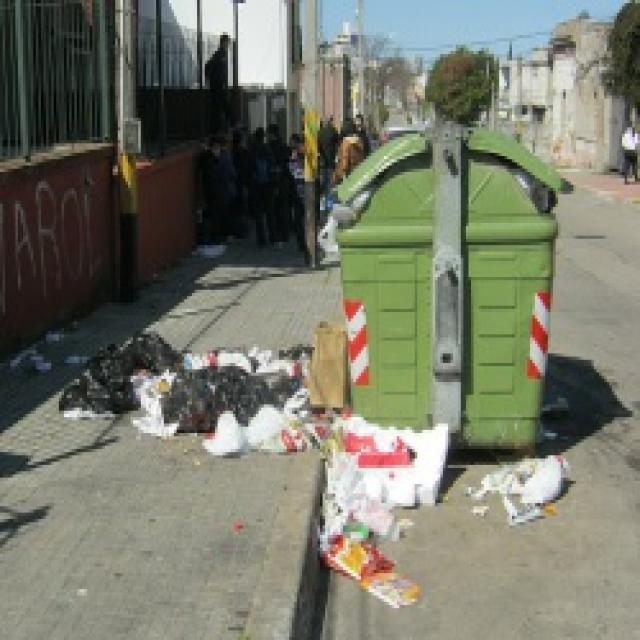garbage: (53, 322, 315, 462), (312, 414, 443, 602), (498, 146, 578, 228), (482, 452, 568, 522), (311, 180, 379, 265)
